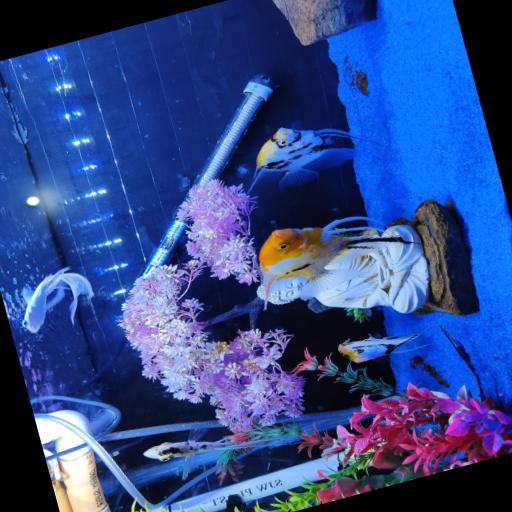Fish: (259, 217, 413, 304), (144, 429, 299, 479), (249, 128, 370, 191), (23, 267, 94, 333), (338, 327, 432, 362), (46, 458, 67, 483)
